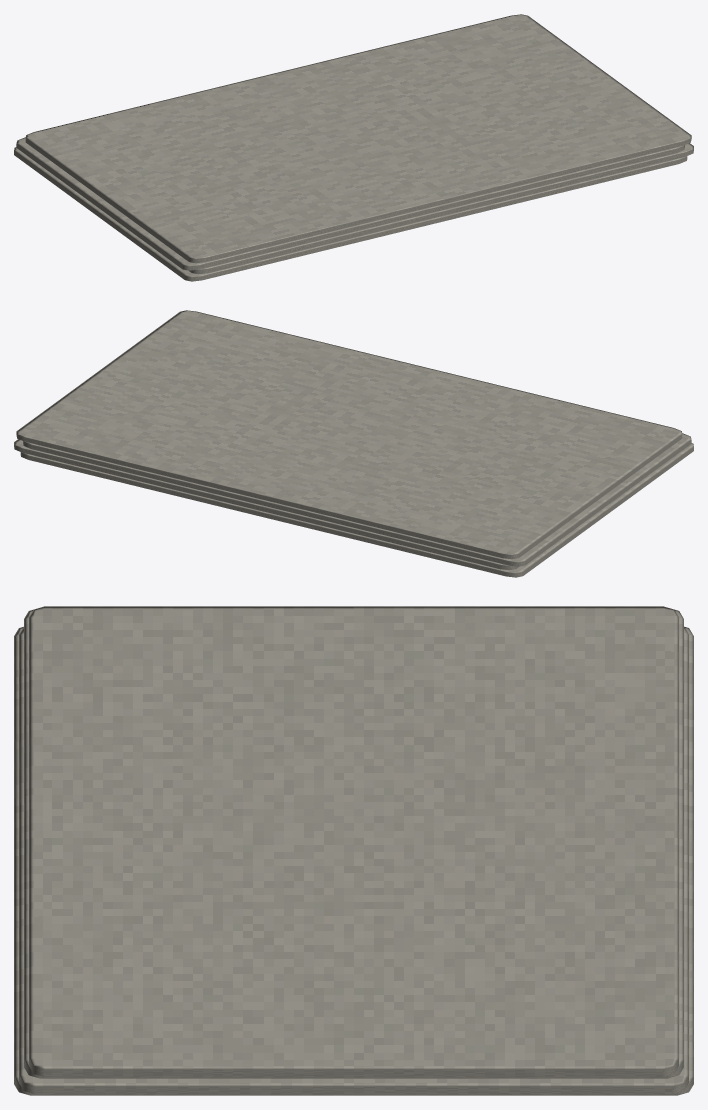
File: wash-mat.glb
3 views of the same model, one above another, from view 1: azimuth 30°, elevation 25°; view 2: azimuth 150°, elevation 25°; view 3: azimuth 270°, elevation 25° (orthographic). The views are drawn at different scales.
Visible parts, largest first — view 1: fold (×4); view 2: fold (×4); view 3: fold (×4).
Boxes of the visible parts, box(x1,y1,x2,y2) form: fold (×4): box(14, 14, 693, 281); fold (×4): box(14, 310, 693, 577); fold (×4): box(14, 606, 693, 1095).
Size of the model in its own units: 0.7388 by 0.0247 by 0.4512.
Materials: 1 (1 with a texture image).
